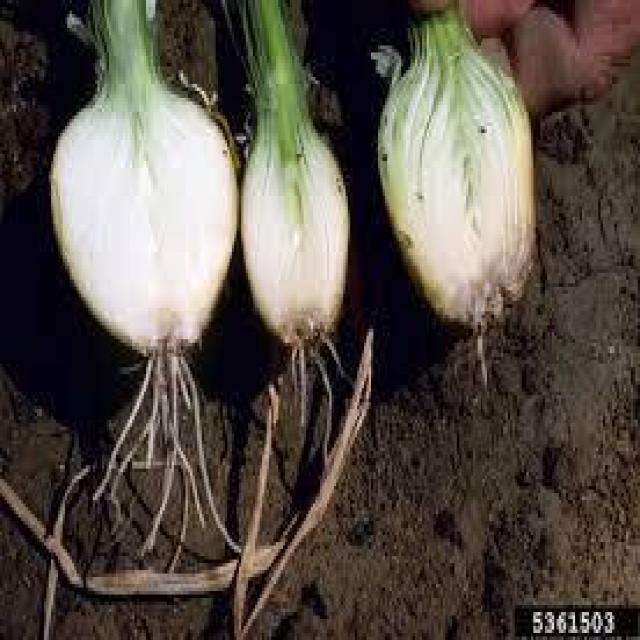Onion: (49, 70, 239, 563), (378, 3, 540, 350), (239, 80, 352, 468), (227, 0, 311, 126), (67, 0, 167, 84), (408, 7, 469, 52)
